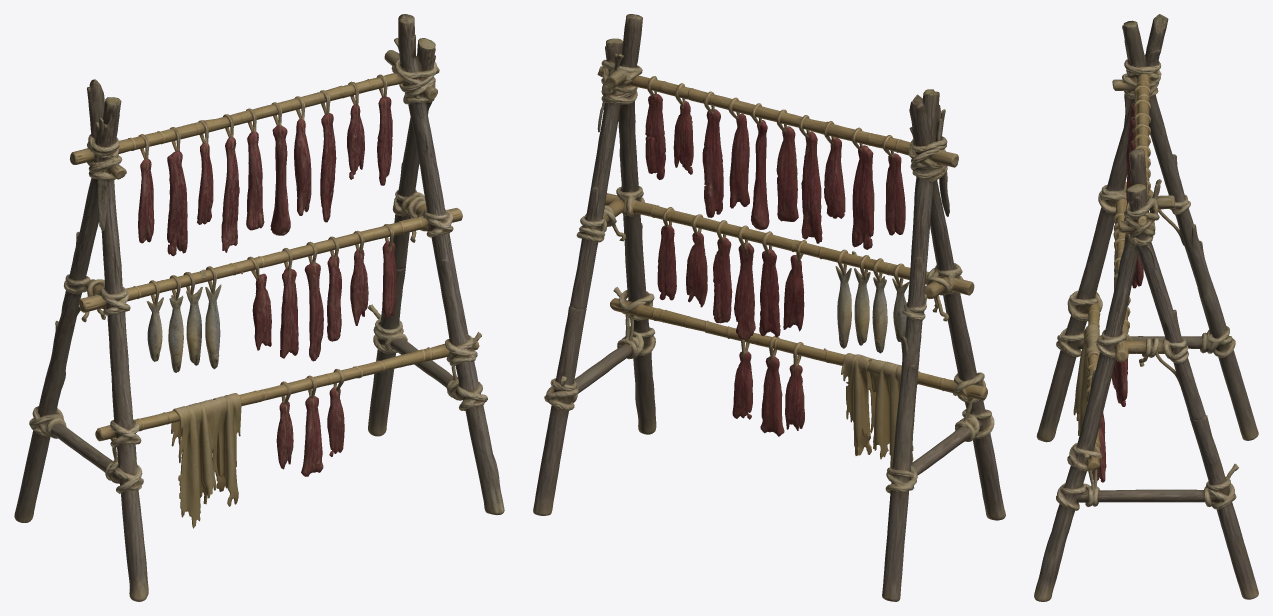
The model's file is drying_rack.glb.
3 views of the same model, side by side, from view 1: azimuth 30°, elevation 25°; view 2: azimuth 150°, elevation 25°; view 3: azimuth 270°, elevation 25° (orthographic). The views are drawn at different scales.
Visible parts, largest first — view 1: tripo_node_ed1befdc-bbb7-4654-9179-88e575f78fd8; view 2: tripo_node_ed1befdc-bbb7-4654-9179-88e575f78fd8; view 3: tripo_node_ed1befdc-bbb7-4654-9179-88e575f78fd8.
Boxes of the visible parts, box(x1,y1,x2,y2) form: tripo_node_ed1befdc-bbb7-4654-9179-88e575f78fd8: box(14, 14, 504, 601); tripo_node_ed1befdc-bbb7-4654-9179-88e575f78fd8: box(533, 14, 1005, 601); tripo_node_ed1befdc-bbb7-4654-9179-88e575f78fd8: box(1034, 14, 1258, 601).
Size of the model in its own units: 0.8305 by 0.9792 by 0.4583.
Materials: 1 (1 with a texture image).
